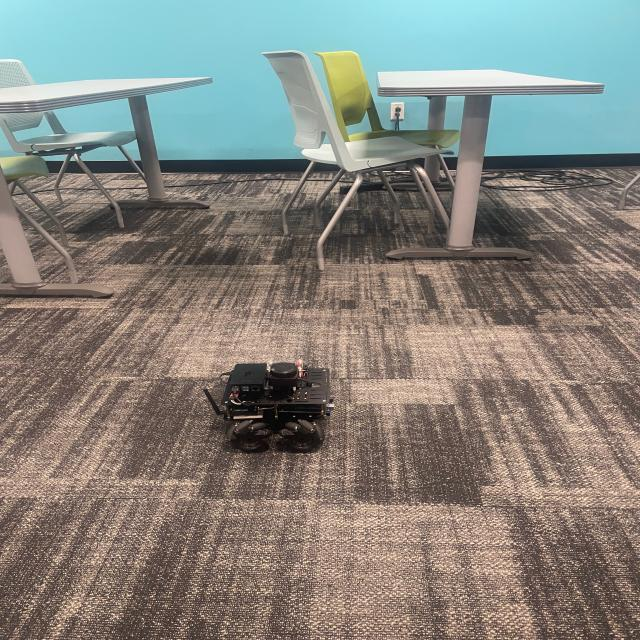ArduinoCar3: (207, 357, 339, 452)
